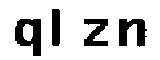l: (48, 4, 68, 52)
n: (115, 15, 147, 51)
q: (10, 17, 44, 60)
z: (77, 18, 109, 48)
